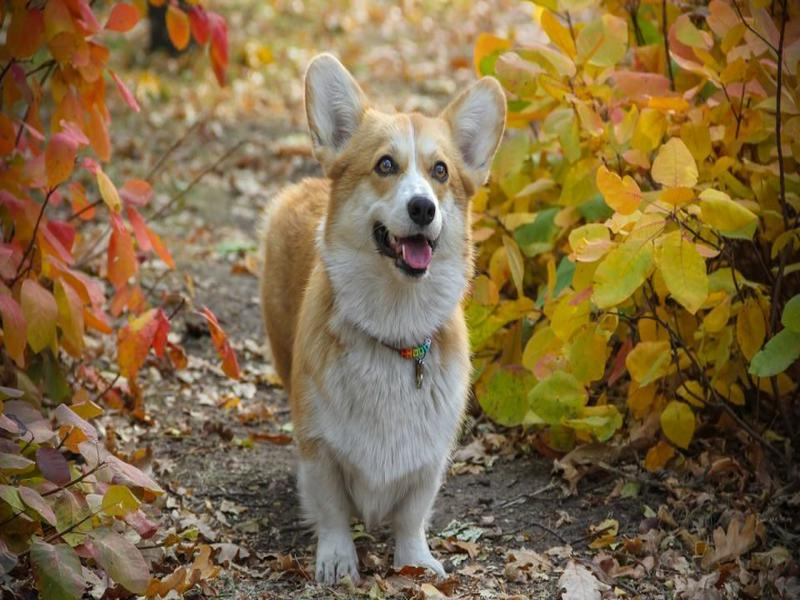corgi: (304, 50, 520, 290)
